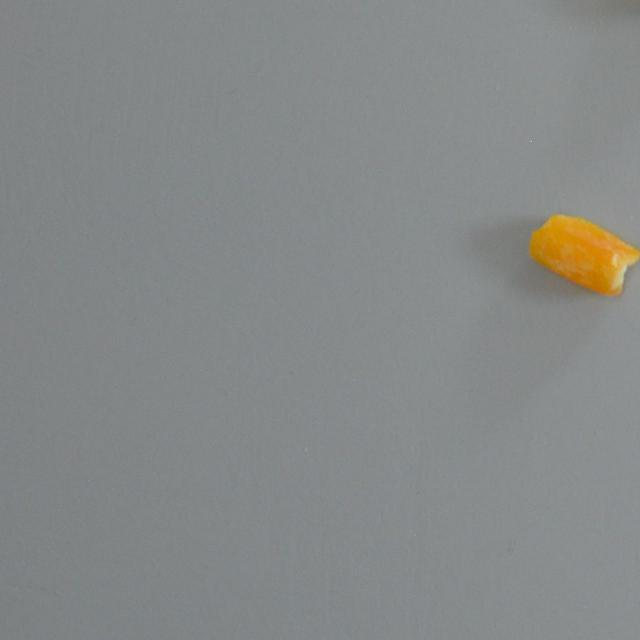pelicula: (526, 193, 640, 310)
